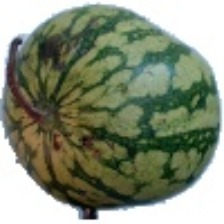watermelon: (34, 46, 179, 192)
